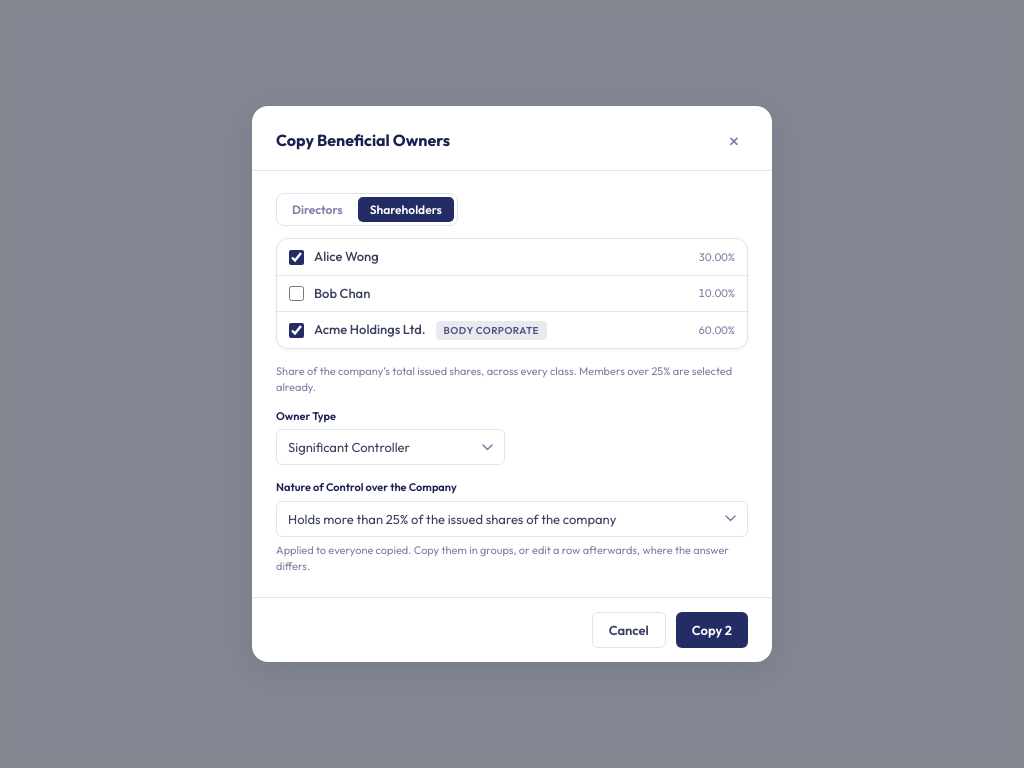
it: CopyPartiesModal › names exactly which parties failed, and keeps the ones that worked
Expected: the text "Alice Wong" is shown, [314,247,379,267]
Click the button "Copy 2": (712, 630) [676,612,748,648]
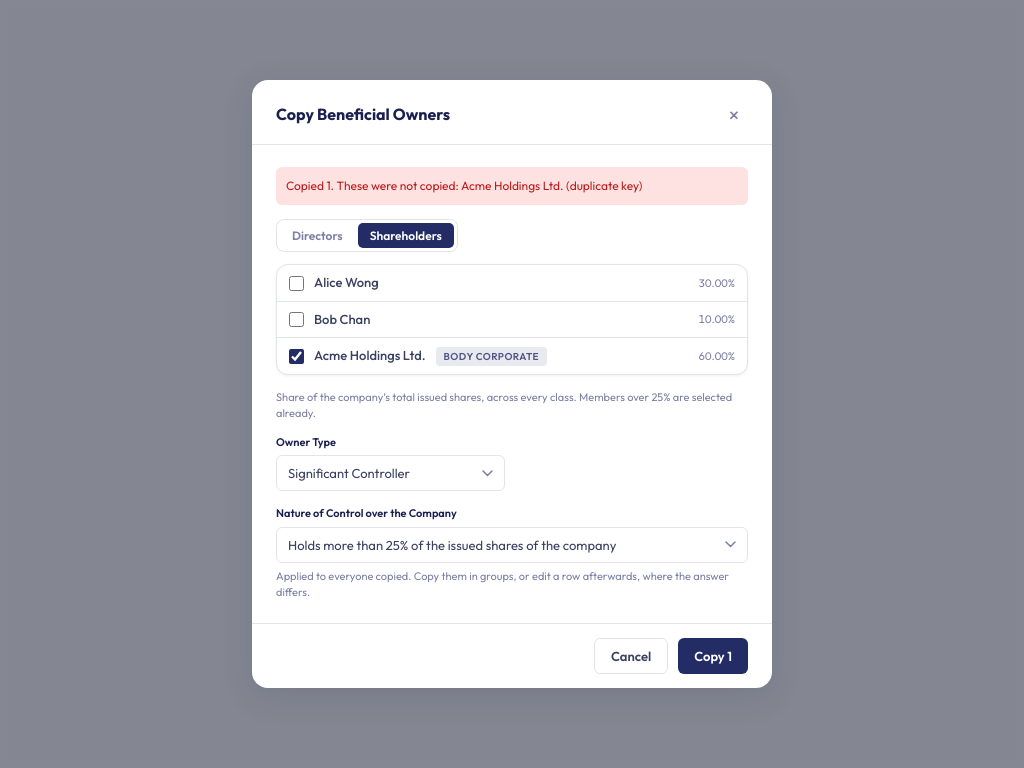
Now the text "duplicate key" is shown, box [286,178,642,193]
